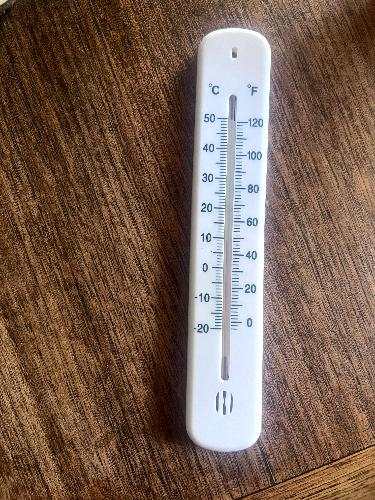thermo: (178, 29, 279, 449)
